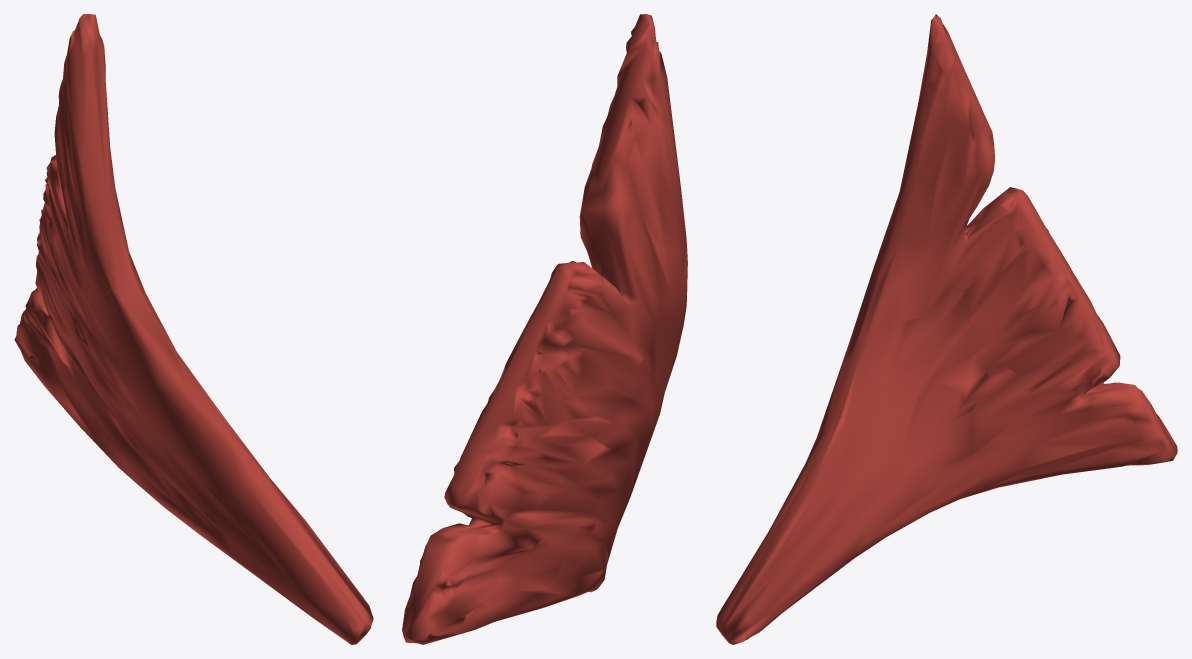
Rendered from musculos-thyro-epiglottic-part-of-thyro-arytenoid-muscle-r.glb.
3 views of the same model, side by side, from view 1: azimuth 30°, elevation 25°; view 2: azimuth 150°, elevation 25°; view 3: azimuth 270°, elevation 25° (orthographic). The views are drawn at different scales.
Visible parts, largest first — view 1: Thyro-epiglottic part of thyro-arytenoid muscle.r; view 2: Thyro-epiglottic part of thyro-arytenoid muscle.r; view 3: Thyro-epiglottic part of thyro-arytenoid muscle.r.
Part boxes in pixels (x1,y1,x2,y2): Thyro-epiglottic part of thyro-arytenoid muscle.r: (14,14,373,644); Thyro-epiglottic part of thyro-arytenoid muscle.r: (402,14,687,644); Thyro-epiglottic part of thyro-arytenoid muscle.r: (716,14,1177,644).
Size of the model in its own units: 0.00848 by 0.0249 by 0.0188.
